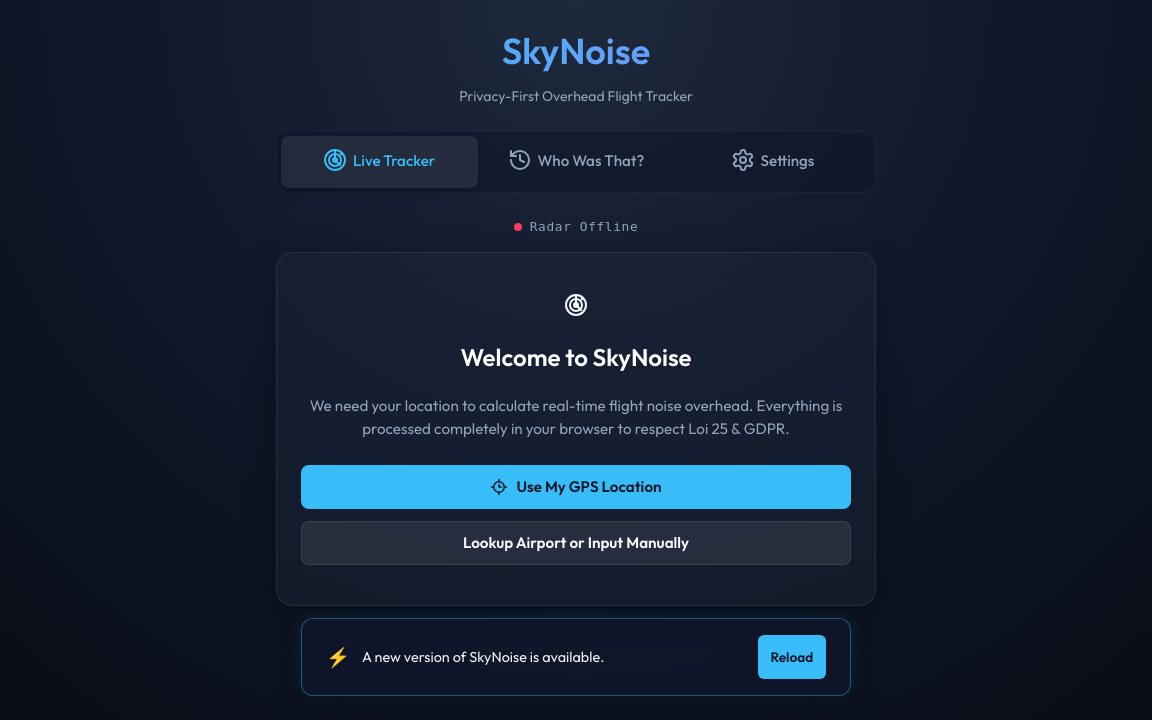
update banner › gives immediate visible feedback and disables the button
This screenshot has width=1152, height=720.
Step 1. Click the button "Reload" → coordinates (792, 657), box [758,635,826,679]
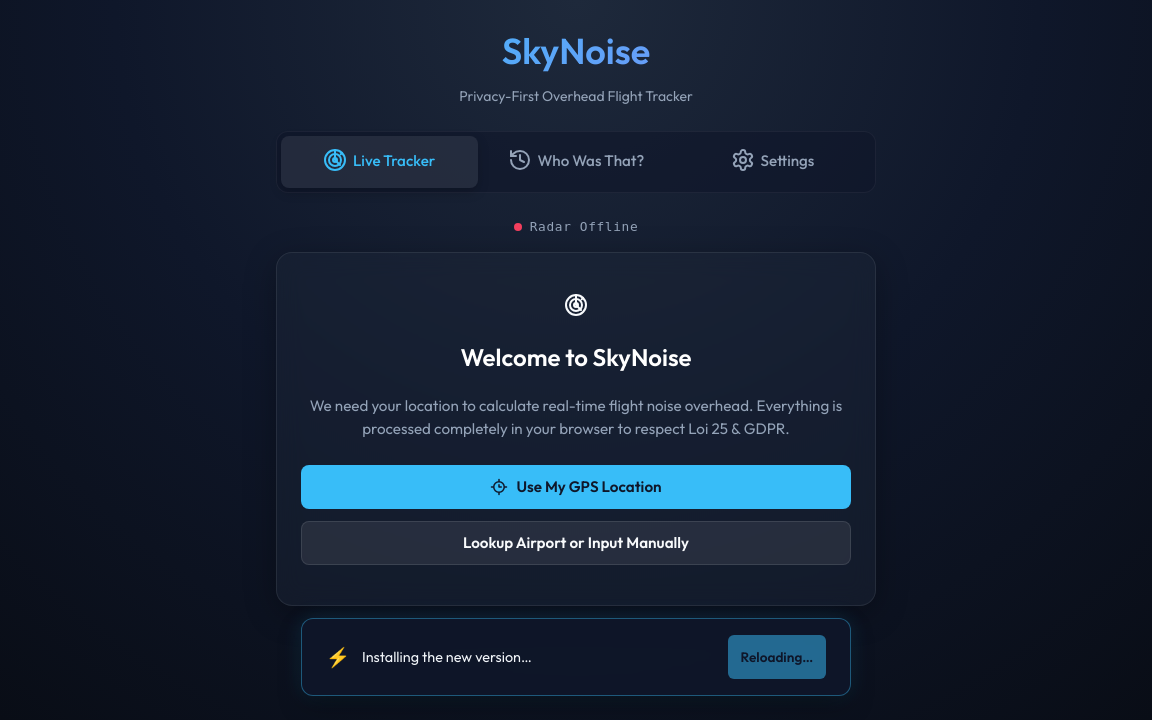
Check: the element showing "⚡ Installing the new version… Reloading…" is shown, box [301,618,851,696]
Check: the button "Reloading…" is disabled, box [728,635,826,679]
Check: the text "Installing the new version…" is shown, box [362,647,532,667]
